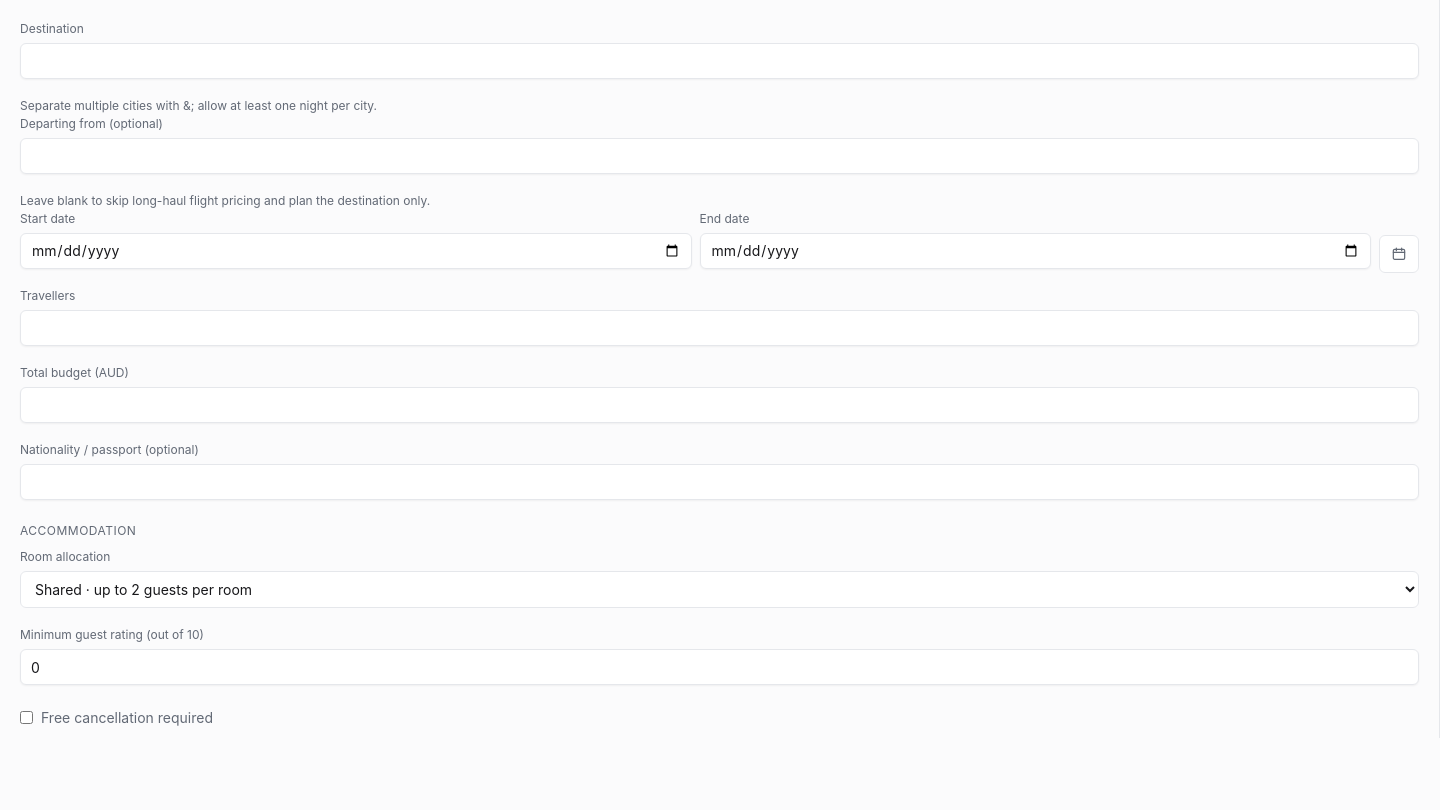
FiltersPanel dates › closes without changing the draft when cancelled
Click the button named "pick trip dates from a calendar" at (1399, 254), box [1379,235,1419,273]
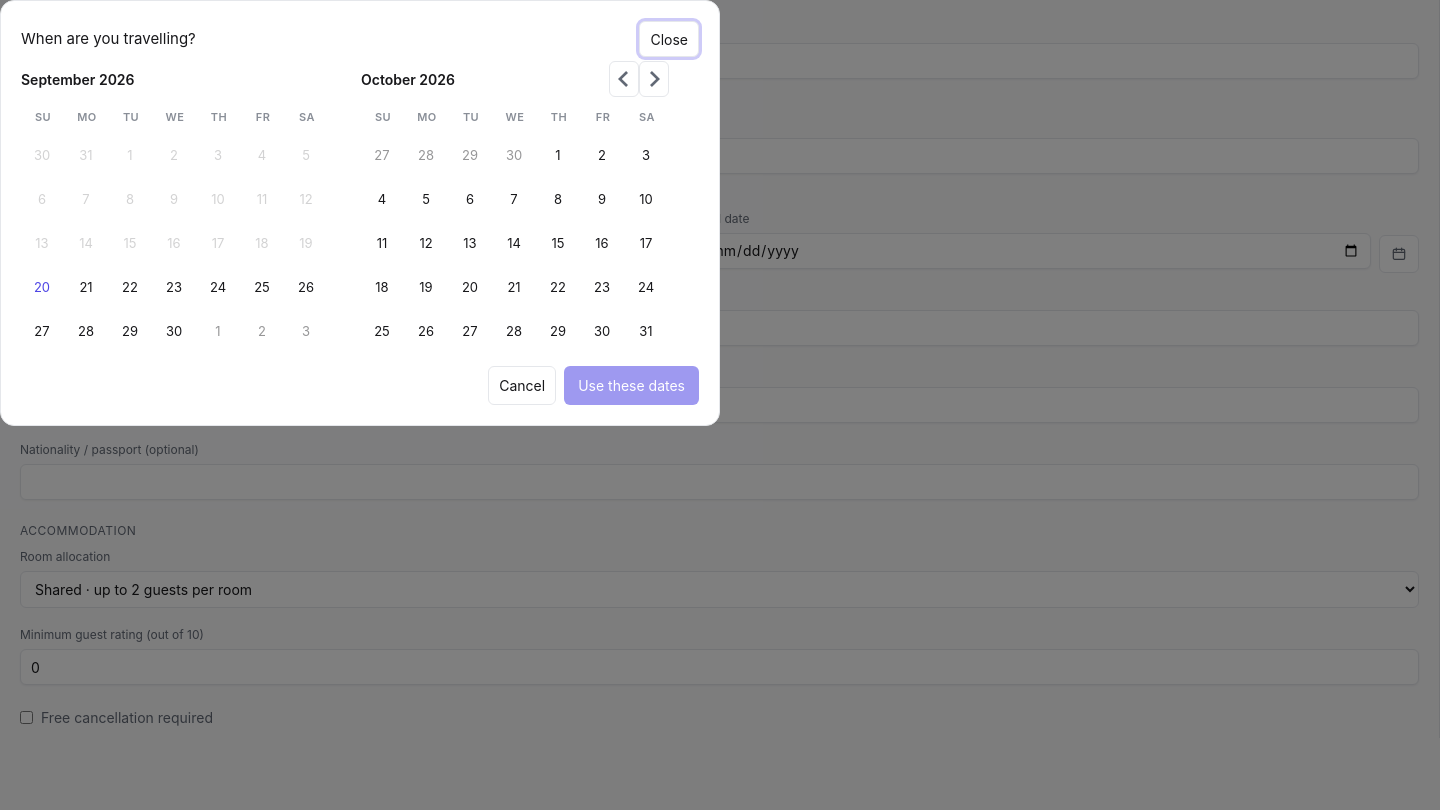
Expected: the heading "When are you travelling?" is shown, [21,28,196,50]
Click the button "Cancel" at (522, 385), box [488,366,556,404]
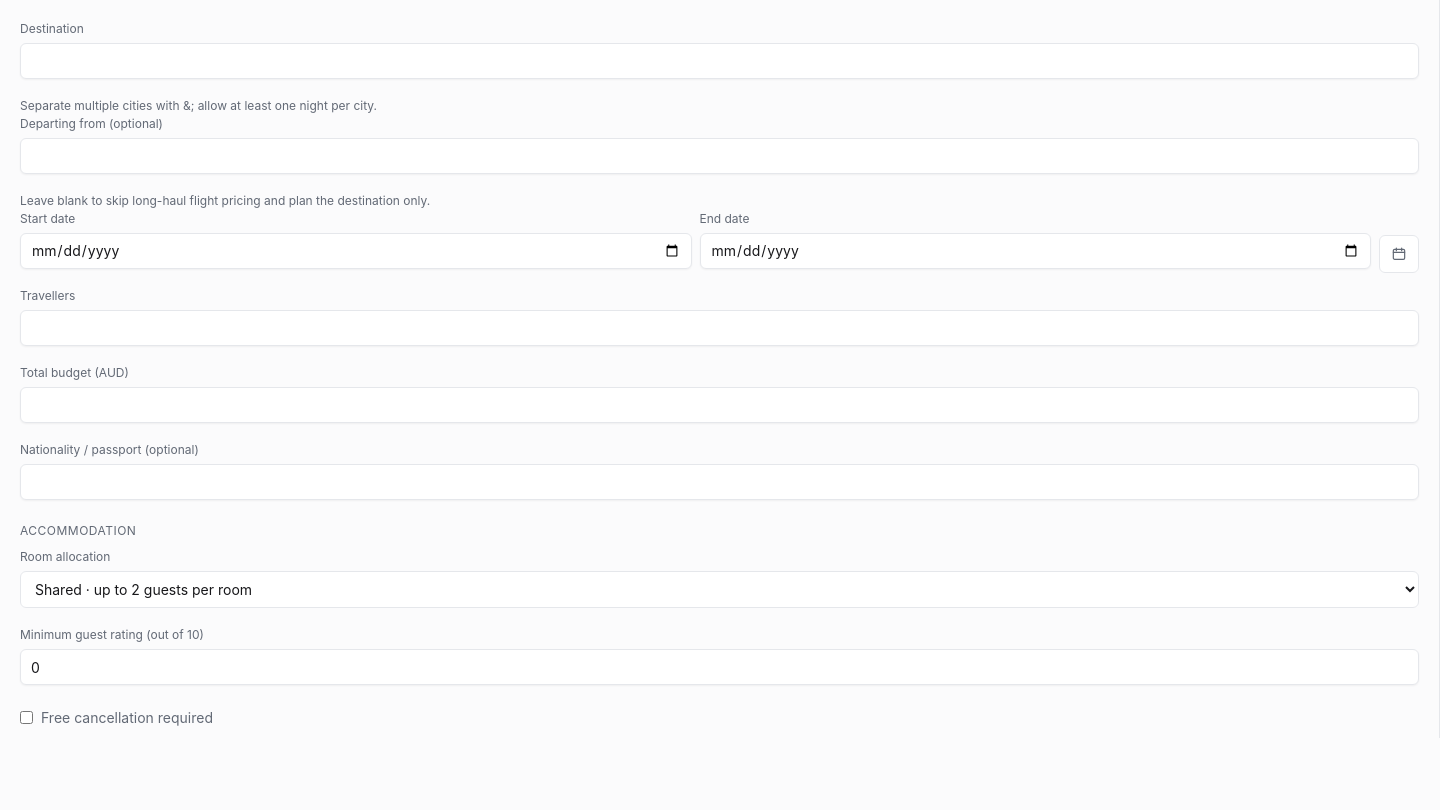
Expected: the heading "When are you travelling" is gone
